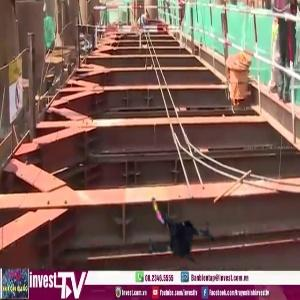drone: (129, 177, 231, 279)
